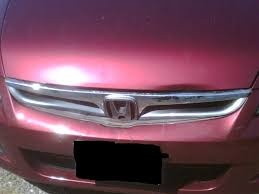Dent: (152, 82, 213, 96)
